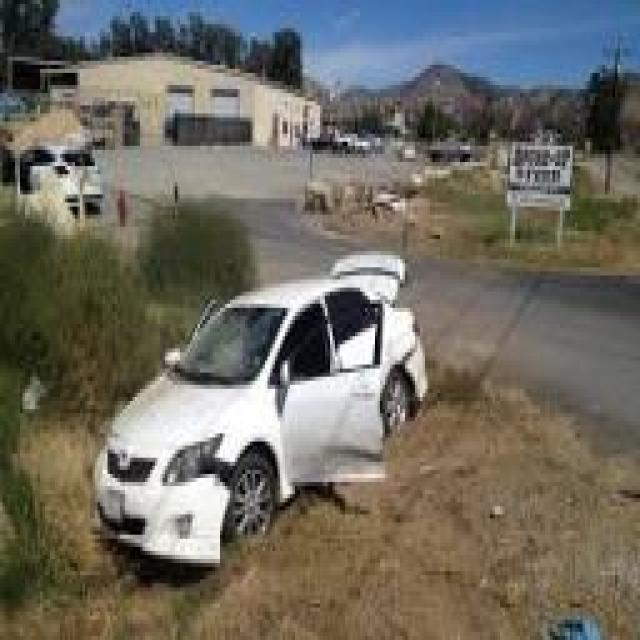rapairable: (402, 346, 433, 399)
replaceable: (163, 477, 240, 555), (325, 386, 385, 484)
